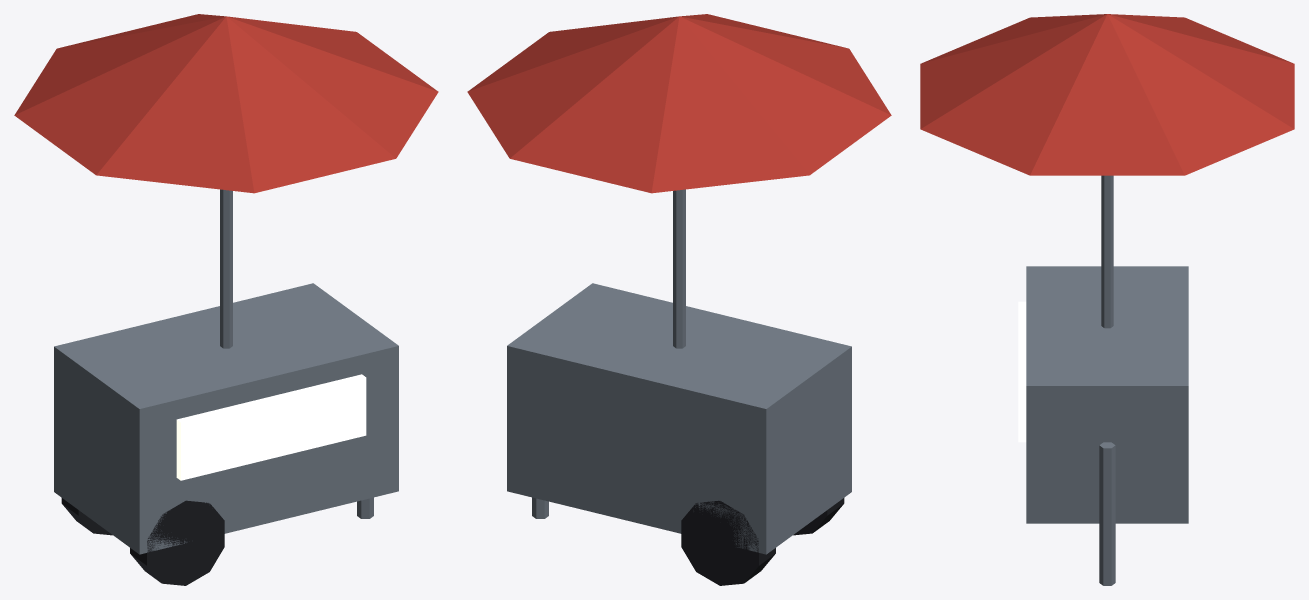
Rendered from prop-food-cart.glb.
The picture shows the model from 3 angles, left to right: view 1: azimuth 30°, elevation 25°; view 2: azimuth 150°, elevation 25°; view 3: azimuth 270°, elevation 25°; orthographic projection. The views are drawn at different scales.
Visible parts, largest first — view 1: cw_paint, cw_glow; view 2: cw_paint; view 3: cw_paint, cw_glow.
Part boxes in pixels (x1,y1,x2,y2): cw_paint: (14, 14, 438, 585); cw_glow: (176, 374, 366, 480); cw_paint: (467, 14, 891, 585); cw_paint: (920, 14, 1294, 585); cw_glow: (1018, 301, 1026, 442).
Size of the model in its own units: 1.85 by 2.75 by 1.85.
